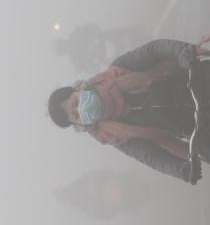person: (47, 35, 210, 185), (46, 169, 177, 219), (47, 19, 133, 69)
